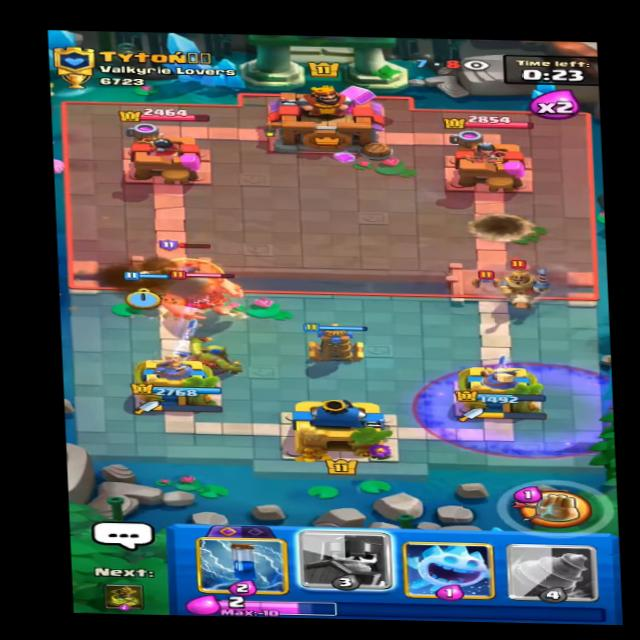bats: (471, 263, 505, 286)
evo-wizard: (152, 239, 229, 278)
giant: (151, 272, 255, 322)
graveyard: (411, 360, 626, 460)
prince: (490, 258, 556, 315)
